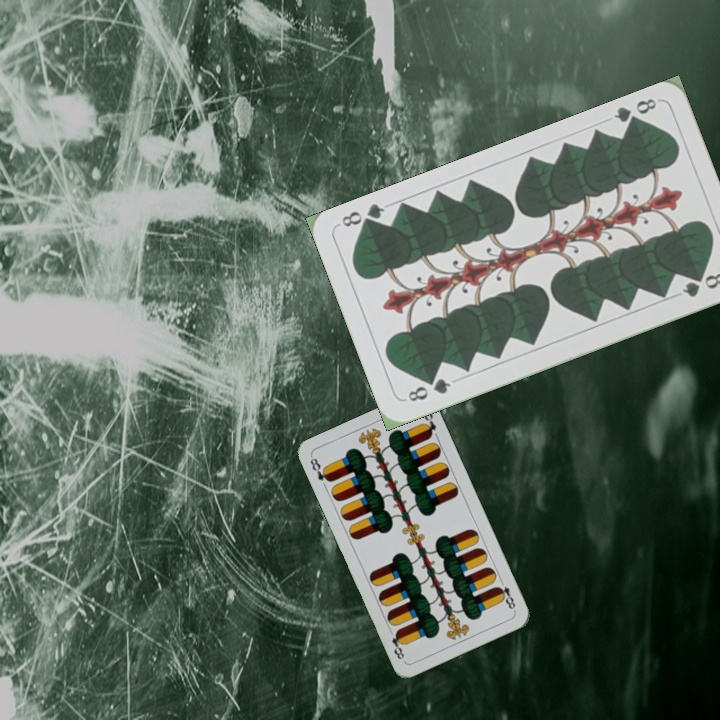E8: (493, 575, 518, 614), (306, 454, 334, 484)
G8: (609, 94, 659, 131), (403, 374, 454, 405)
